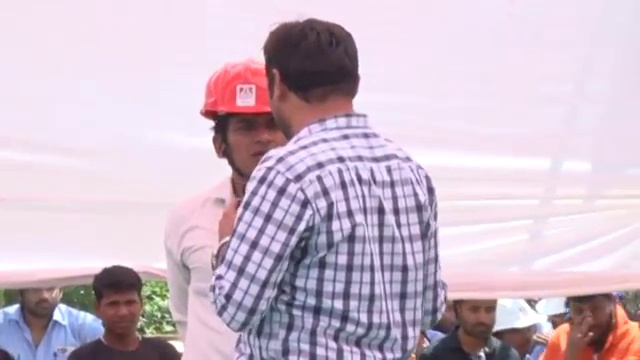helmet: (202, 56, 287, 123), (494, 300, 544, 336)
helmet_off: (265, 14, 360, 142), (88, 267, 151, 342), (567, 291, 619, 347), (456, 293, 499, 343), (18, 287, 59, 318)
helmet_on: (201, 59, 289, 185), (492, 302, 544, 356)
person: (215, 15, 446, 356), (163, 55, 291, 360), (67, 267, 178, 360), (0, 281, 101, 360), (542, 290, 640, 360), (430, 296, 522, 358)
